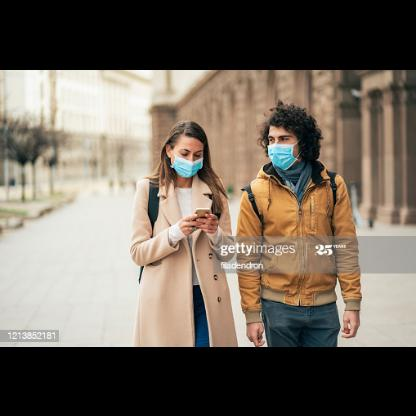Surgical Mask: (262, 106, 310, 172), (164, 120, 208, 174)
